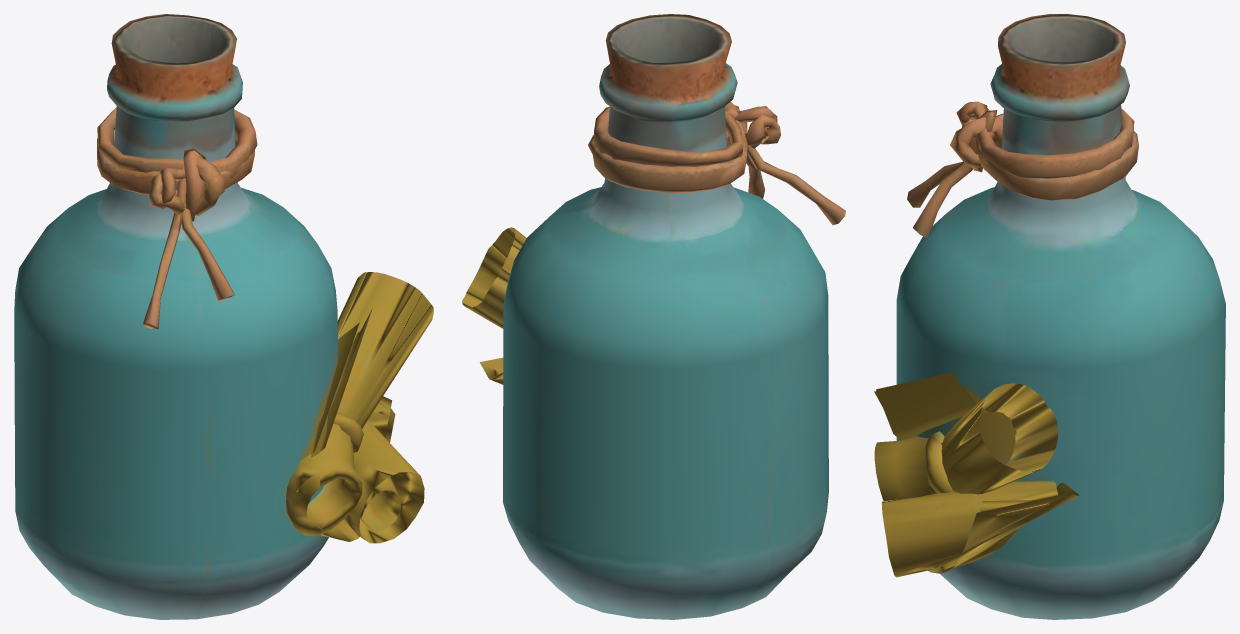
The model's file is bottle.glb.
The picture shows the model from 3 angles, left to right: view 1: azimuth 30°, elevation 25°; view 2: azimuth 150°, elevation 25°; view 3: azimuth 270°, elevation 25°; orthographic projection.
Bounding box in the file's own units: 0.6831 × 0.9517 × 0.5732.
1 material, 1 textured.
